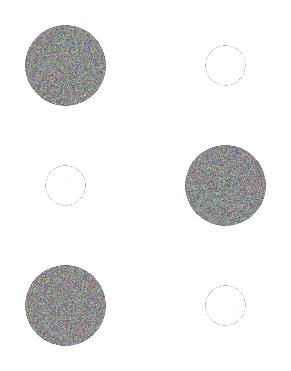O: (18, 19, 271, 351)
